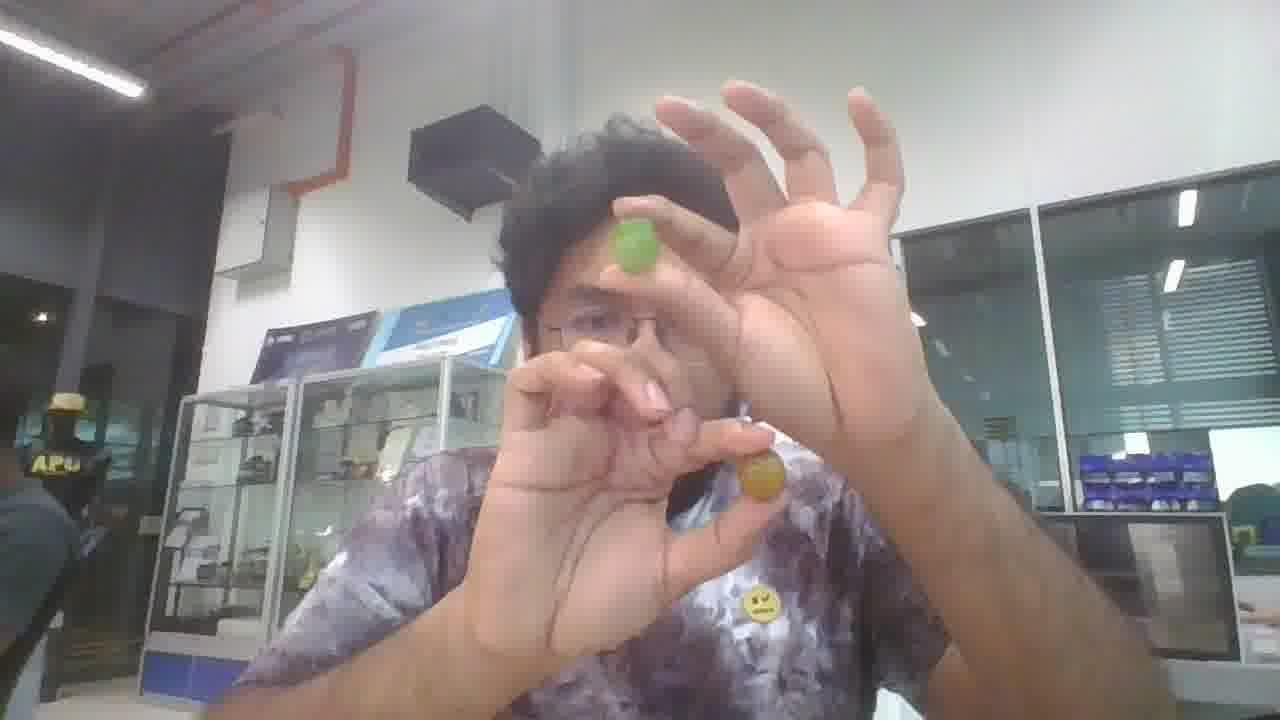green_cherry_tomato: (611, 219, 661, 274)
yellow_cherry_tomato: (736, 450, 784, 501)
